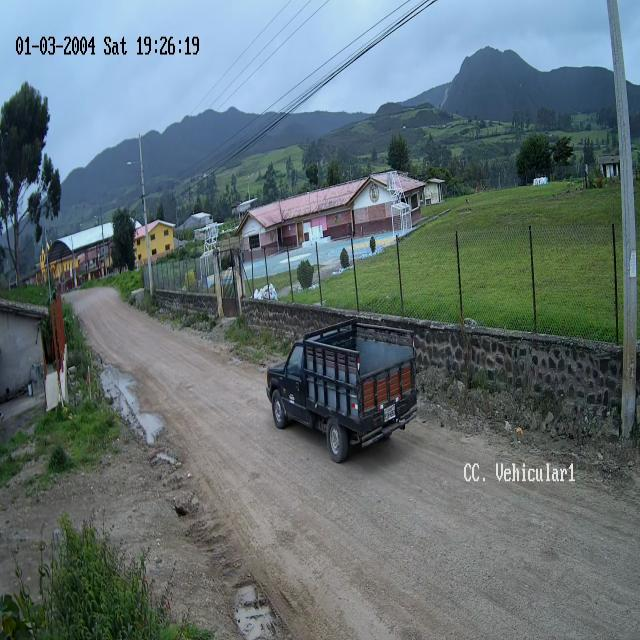CMT: (265, 325, 417, 464)
